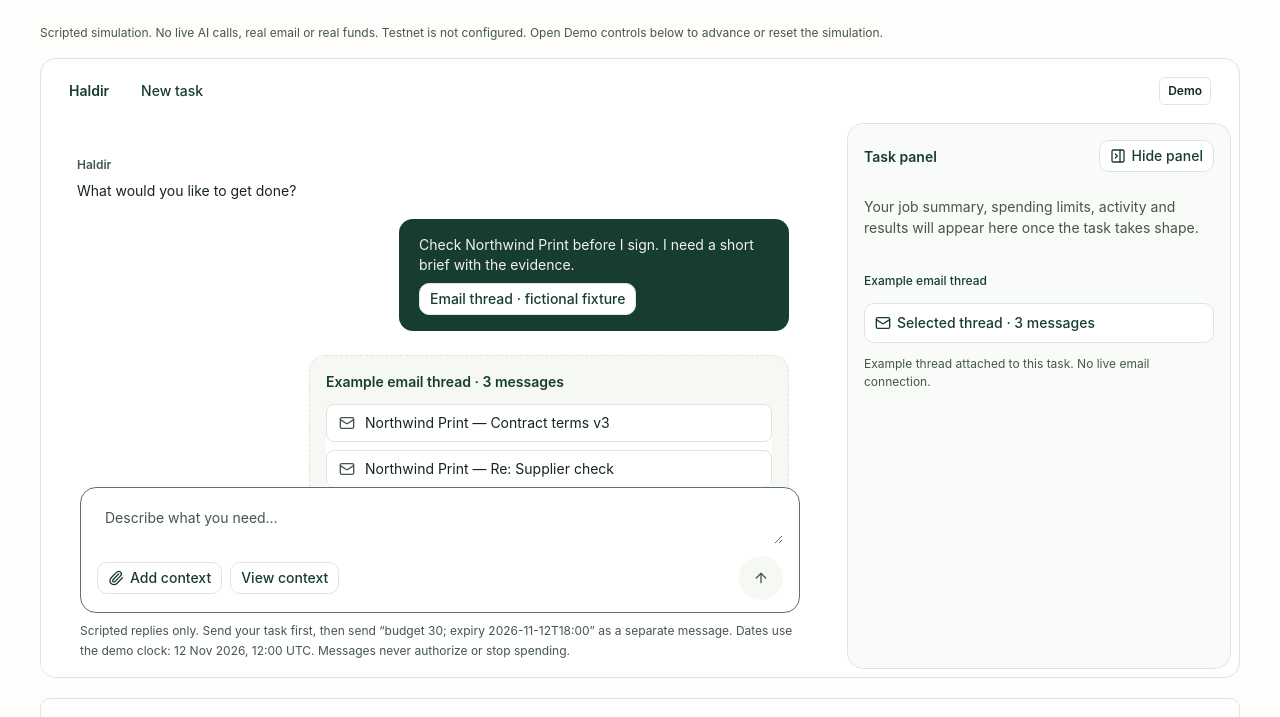
Scenario: preparation is compact and describes only the actual local draft, not fabricated research checks
In the text box named "Your message": (440, 522) [97,500,783,544], type "Check the supplier. I need a short brief with the evidence."
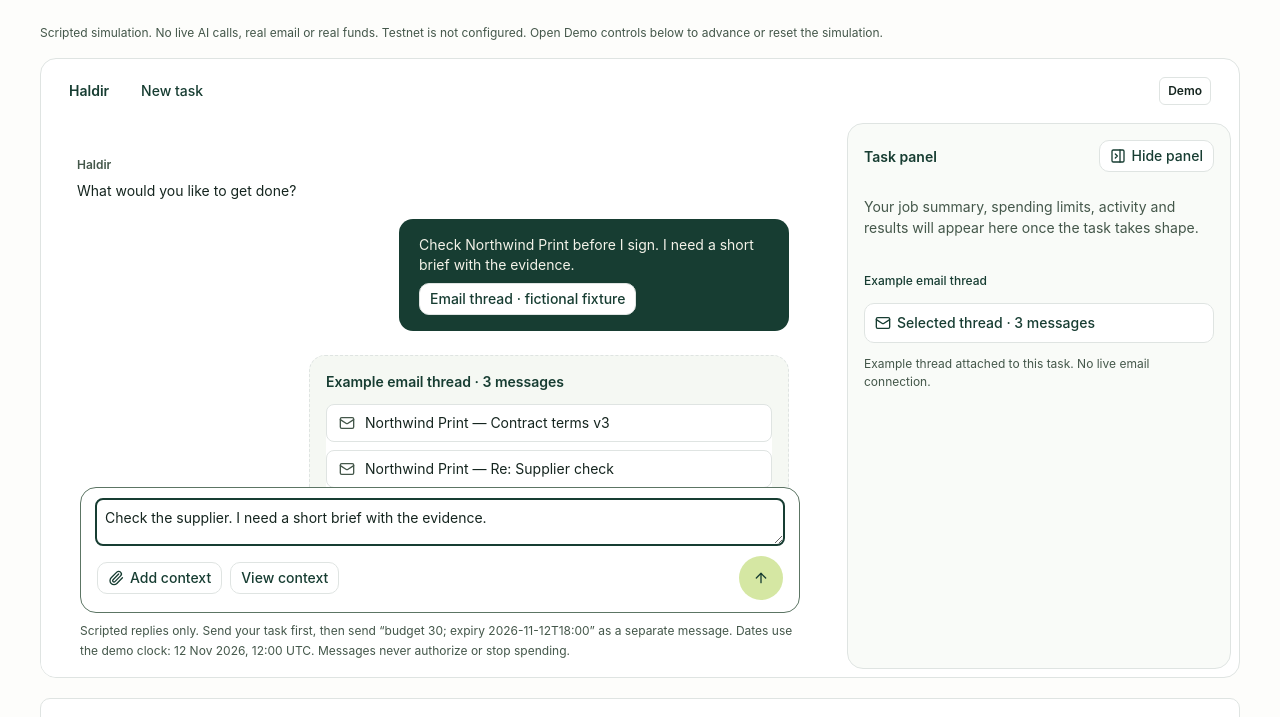
Click the button named "Send message": (761, 578) [739,556,783,600]
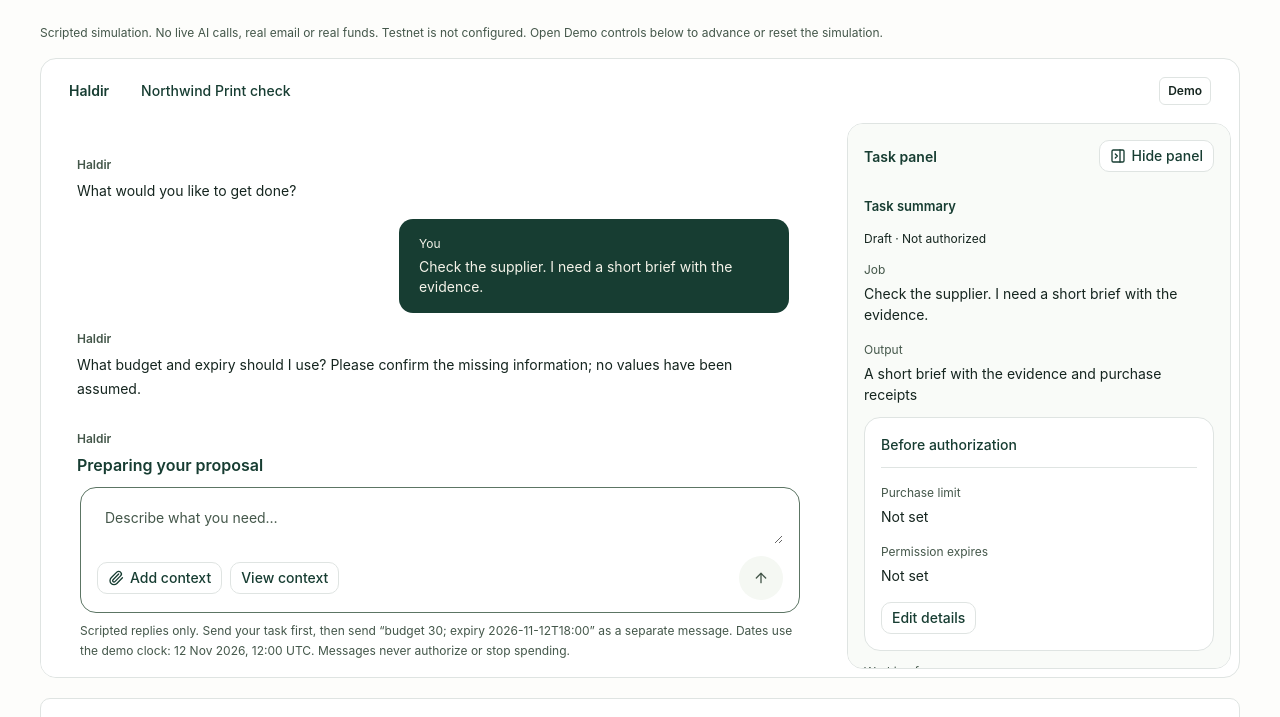
Result: the 4th text "Haldir" is shown at [77,431,111,446]
Result: the heading "Preparing your proposal" is shown at [77,455,263,475]
In the text box named "Your message": (440, 522) [97,500,783,544], type "budget 30; expiry 2026-11-12T18:00"
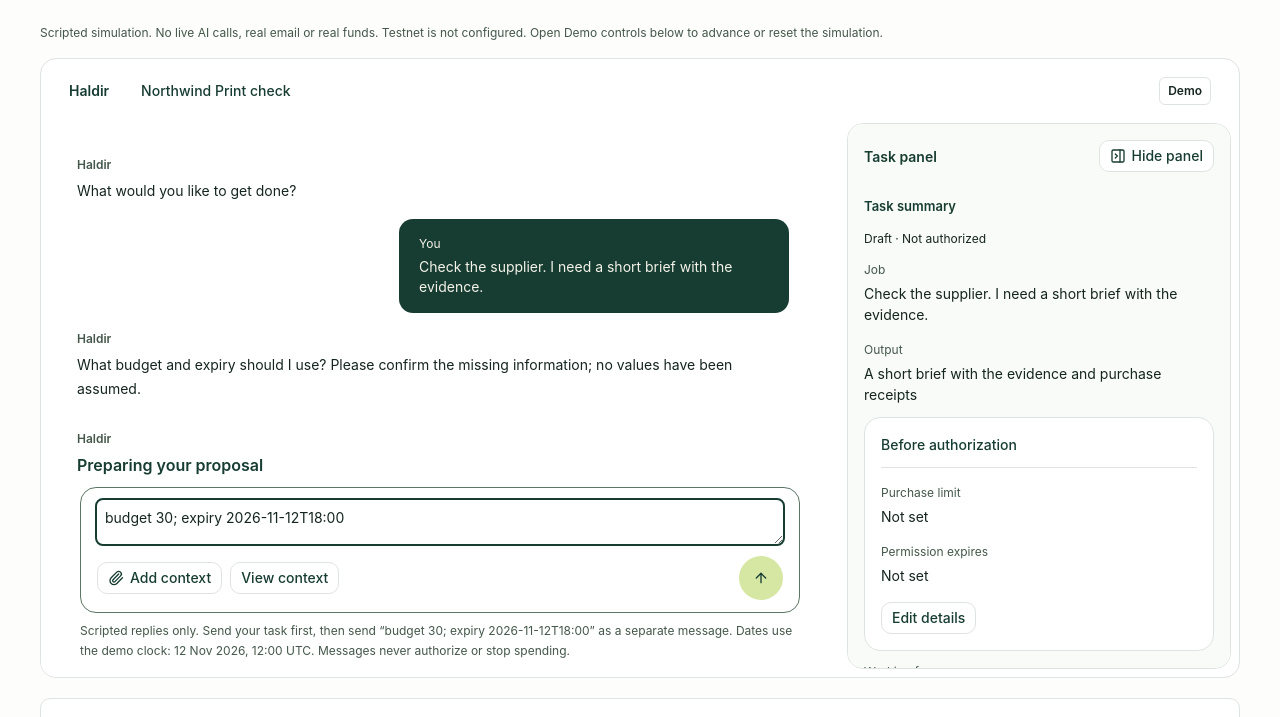
Click the button named "Send message": (761, 578) [739,556,783,600]
(page scrolled)
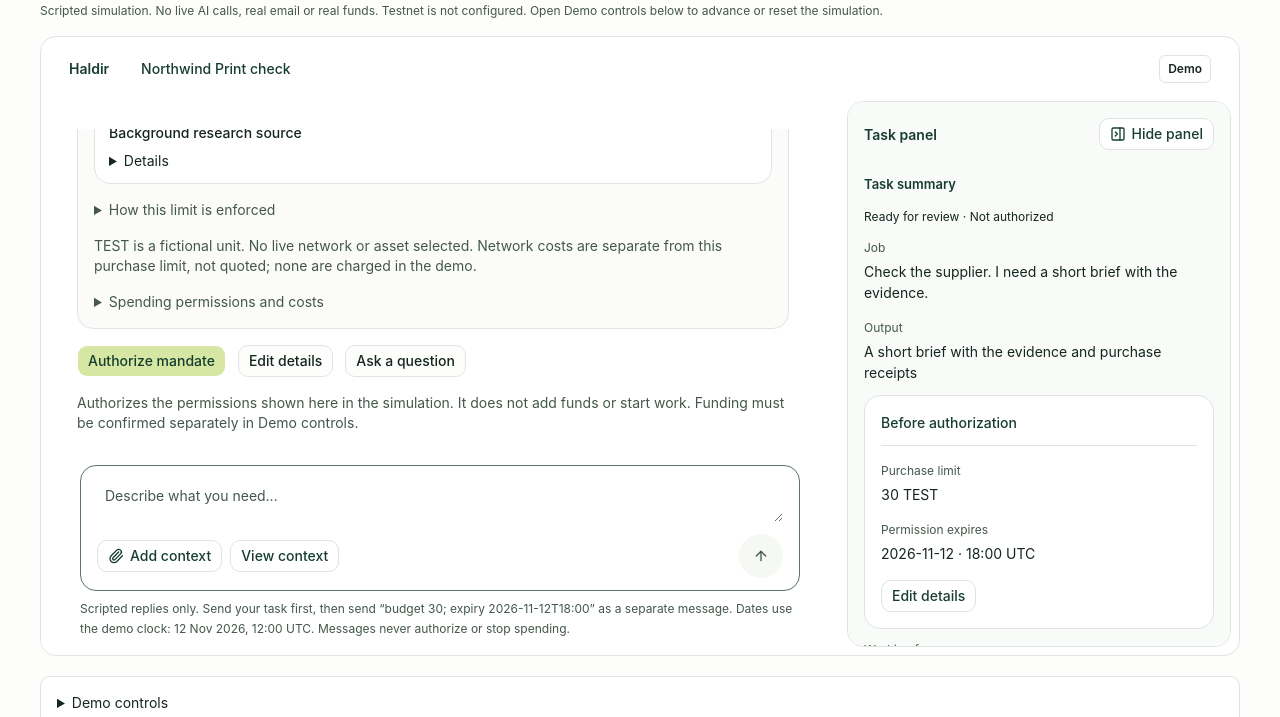
Result: the button "Authorize mandate" is enabled at [77,345,226,377]
